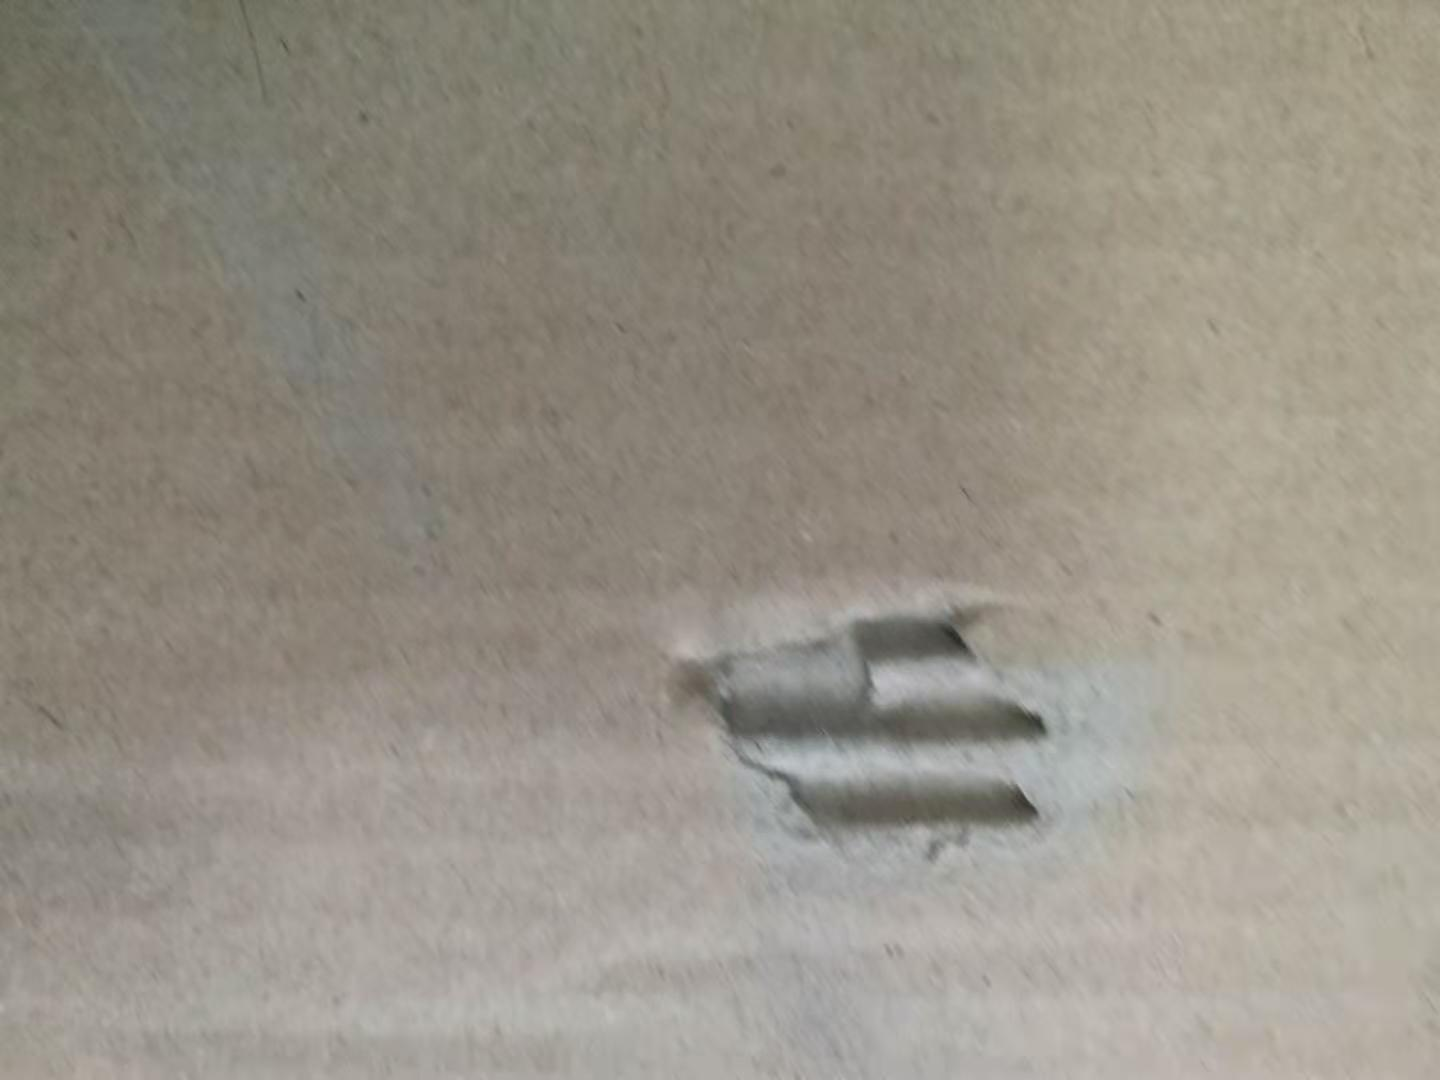defect: (52, 1, 495, 596), (611, 562, 1202, 967)
